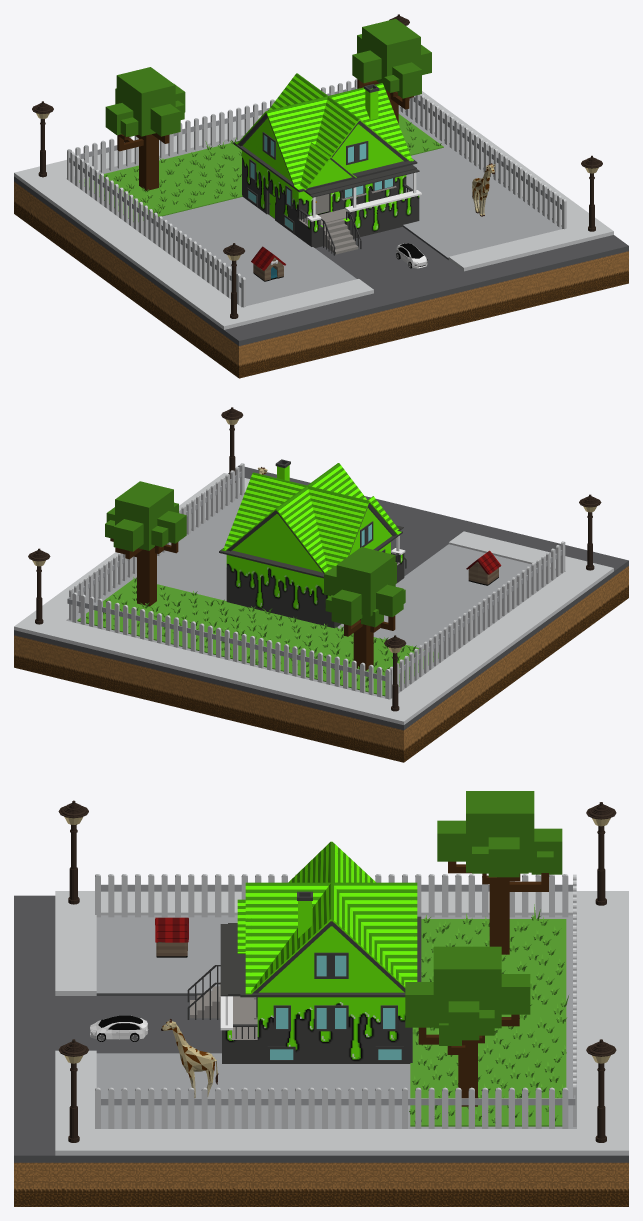
The picture shows the model from 3 angles, top to bottom: view 1: azimuth 30°, elevation 25°; view 2: azimuth 150°, elevation 25°; view 3: azimuth 270°, elevation 25°; orthographic projection. The views are drawn at different scales.
Visible parts, largest first — view 1: Cube.004, Cube.754, OBJRANDOM_DOGHOUSE, ANIMAL_JIRAFA, VEHICLES_TESLA; view 2: Cube.004, Cube.754, OBJRANDOM_DOGHOUSE; view 3: Cube.004, Cube.754, OBJRANDOM_DOGHOUSE, ANIMAL_JIRAFA, VEHICLES_TESLA.
Boxes of the visible parts, x1,y1,x2,y2 form: Cube.004: [14, 14, 628, 378]; Cube.754: [233, 73, 421, 255]; OBJRANDOM_DOGHOUSE: [251, 246, 285, 281]; ANIMAL_JIRAFA: [472, 163, 495, 216]; VEHICLES_TESLA: [396, 243, 427, 268]; Cube.004: [14, 407, 628, 762]; Cube.754: [219, 459, 406, 628]; OBJRANDOM_DOGHOUSE: [466, 550, 501, 585]; Cube.004: [14, 791, 628, 1206]; Cube.754: [187, 841, 421, 1063]; OBJRANDOM_DOGHOUSE: [155, 917, 188, 957]; ANIMAL_JIRAFA: [161, 1019, 218, 1098]; VEHICLES_TESLA: [90, 1015, 148, 1041].
Size of the model in its own units: 4000 by 1599 by 4000.
Materials: 38 (4 with a texture image).
